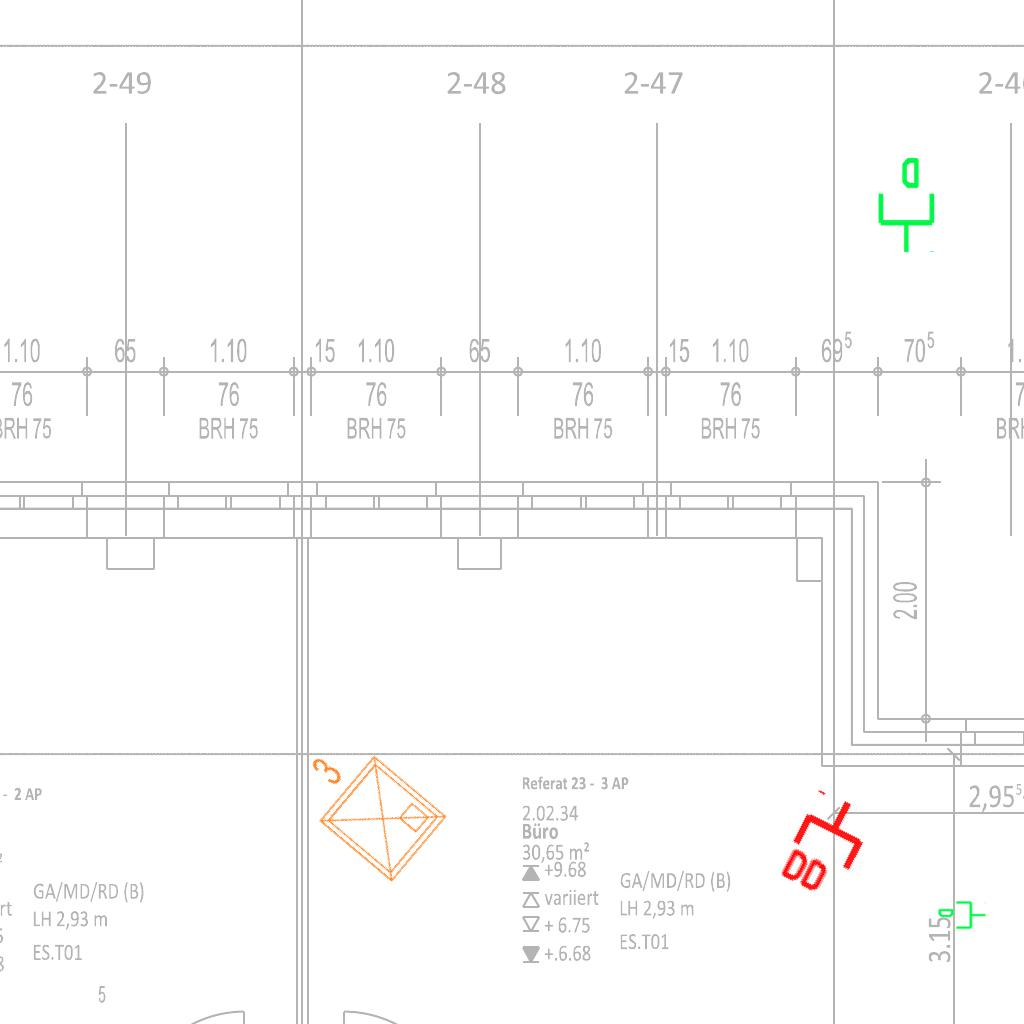Datenanschluss_einfach: (870, 155, 939, 255), (937, 899, 987, 933)
Datenanschluss_zweifach: (773, 784, 882, 909)
Einbaudownlights_LED_Konferenzraeume: (275, 718, 457, 896)
